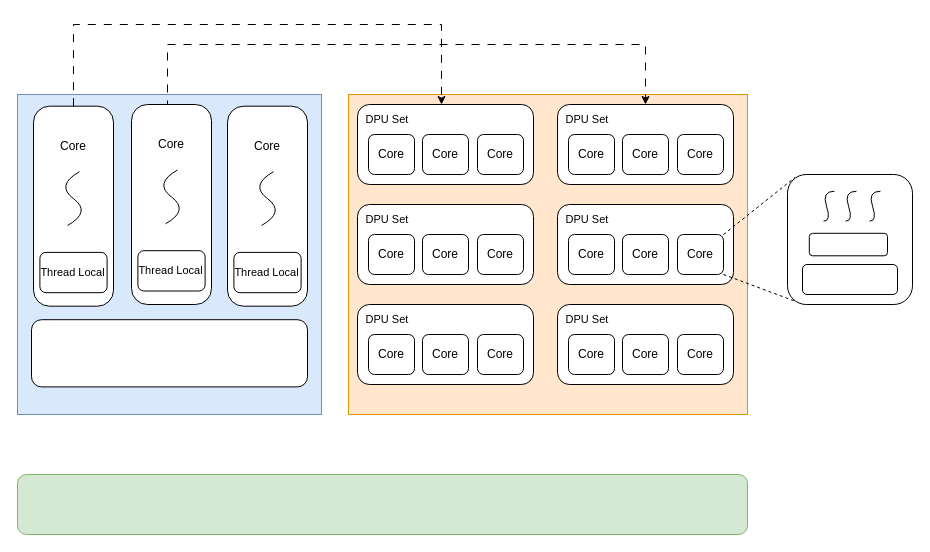
Image size: 930x552. Some labels were removed from this diagram. Here are the shapes that lost their labels. From the top down, the centre of each, then its label:
the point at 848,244: Cache
the point at 850,279: MRAM
the point at 169,353: Shared Cache
the point at 382,504: DRAM
